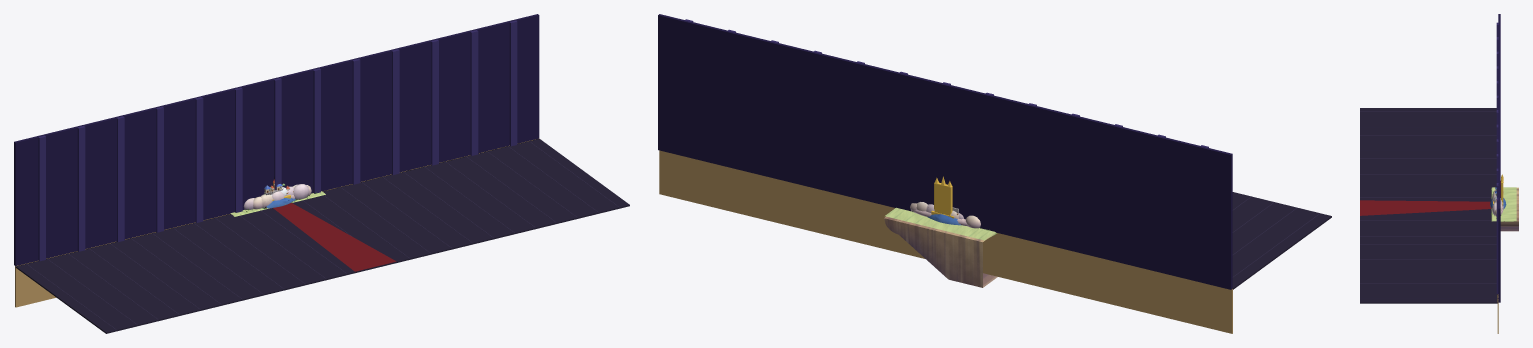
File: kit.glb
3 views of the same model, side by side, from view 1: azimuth 30°, elevation 25°; view 2: azimuth 150°, elevation 25°; view 3: azimuth 270°, elevation 25° (orthographic). The views are drawn at different scales.
Parts seen in each view (by area): view 1: hall, hall_floor, carpet, band_dusk, cloud_far; view 2: hall, band_dusk, hall_floor, title_cliff, throne, cloud_bank; view 3: hall_floor, carpet, hall, title_cliff.
Part boxes in pixels (box(x1,y1,x2,y2)): hall: box(14, 14, 539, 265); hall_floor: box(15, 139, 629, 333); carpet: box(273, 203, 396, 271); band_dusk: box(15, 138, 539, 307); cloud_far: box(243, 184, 309, 209); hall: box(658, 14, 1232, 289); band_dusk: box(659, 150, 1233, 333); hall_floor: box(1232, 192, 1331, 289); title_cliff: box(884, 207, 997, 287); throne: box(931, 176, 954, 218); cloud_bank: box(910, 202, 980, 228); hall_floor: box(1360, 108, 1498, 303); carpet: box(1360, 200, 1491, 215); hall: box(1496, 14, 1500, 302); title_cliff: box(1491, 187, 1518, 231).
Bounding box in the file's own units: 40 × 12.05 × 13.8.
35 materials, 4 textured.
